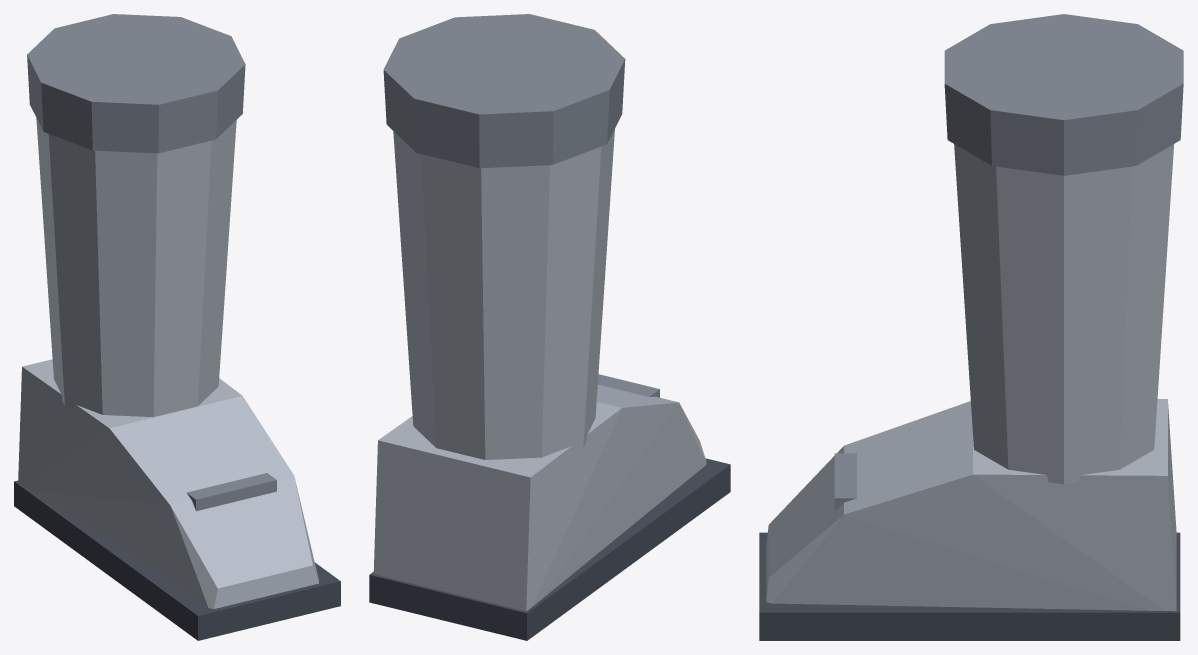
File: gear_steel_boots_leg_r.glb
3 views of the same model, side by side, from view 1: azimuth 30°, elevation 25°; view 2: azimuth 150°, elevation 25°; view 3: azimuth 270°, elevation 25° (orthographic). The views are drawn at different scales.
Parts seen in each view (by area): view 1: gear_steel_boots_leg_r; view 2: gear_steel_boots_leg_r; view 3: gear_steel_boots_leg_r.
Part boxes in pixels (<box>): gear_steel_boots_leg_r: <box>14,14,340,640</box>; gear_steel_boots_leg_r: <box>369,14,730,640</box>; gear_steel_boots_leg_r: <box>759,14,1183,640</box>.
Bounding box in the file's own units: 0.16 × 0.375 × 0.2701.
